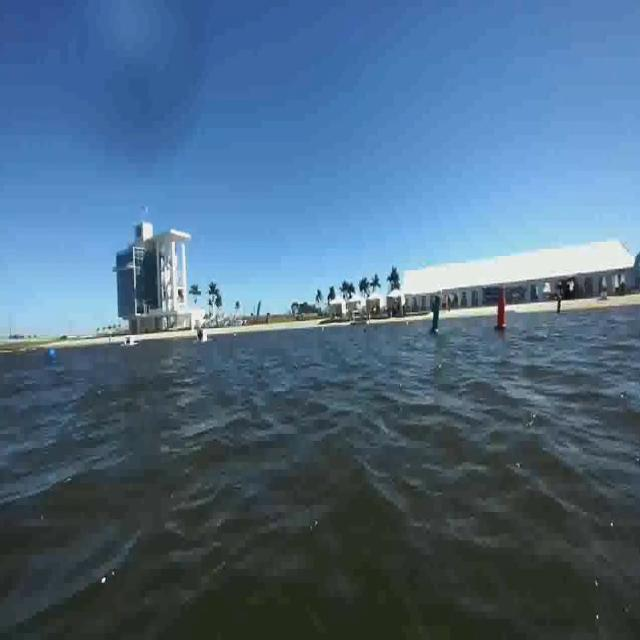blue-buoy: (46, 346, 59, 360)
green-column-buoy: (430, 290, 446, 342)
red-column-buoy: (493, 286, 508, 332)
